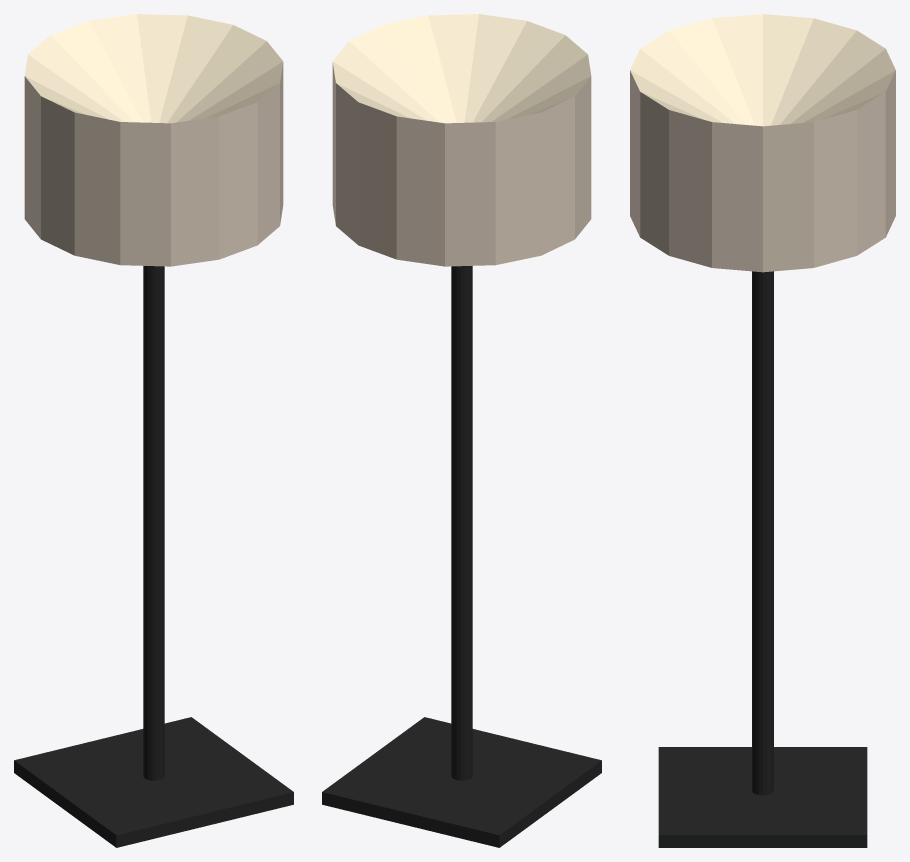
File: Accesories_Standing_Lamp_B.glb
3 views of the same model, side by side, from view 1: azimuth 30°, elevation 25°; view 2: azimuth 150°, elevation 25°; view 3: azimuth 270°, elevation 25° (orthographic).
Visible parts, largest first — view 1: Accesories_Standing_Lamp_B; view 2: Accesories_Standing_Lamp_B; view 3: Accesories_Standing_Lamp_B.
Part boxes in pixels (<box>): Accesories_Standing_Lamp_B: <box>14,14,293,847</box>; Accesories_Standing_Lamp_B: <box>322,14,601,847</box>; Accesories_Standing_Lamp_B: <box>630,14,895,847</box>.
Bounding box in the file's own units: 0.5 × 1.52 × 0.5.
1 material, 1 textured.
